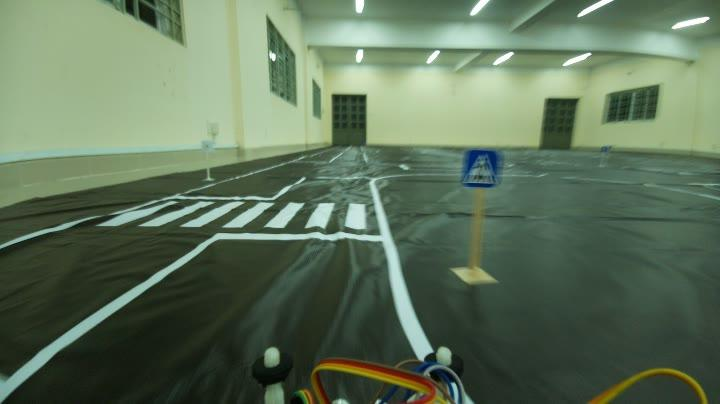crosswalk: (458, 142, 503, 189)
